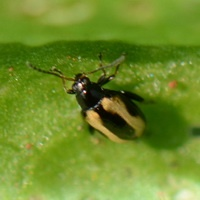insect: (27, 53, 145, 142)
